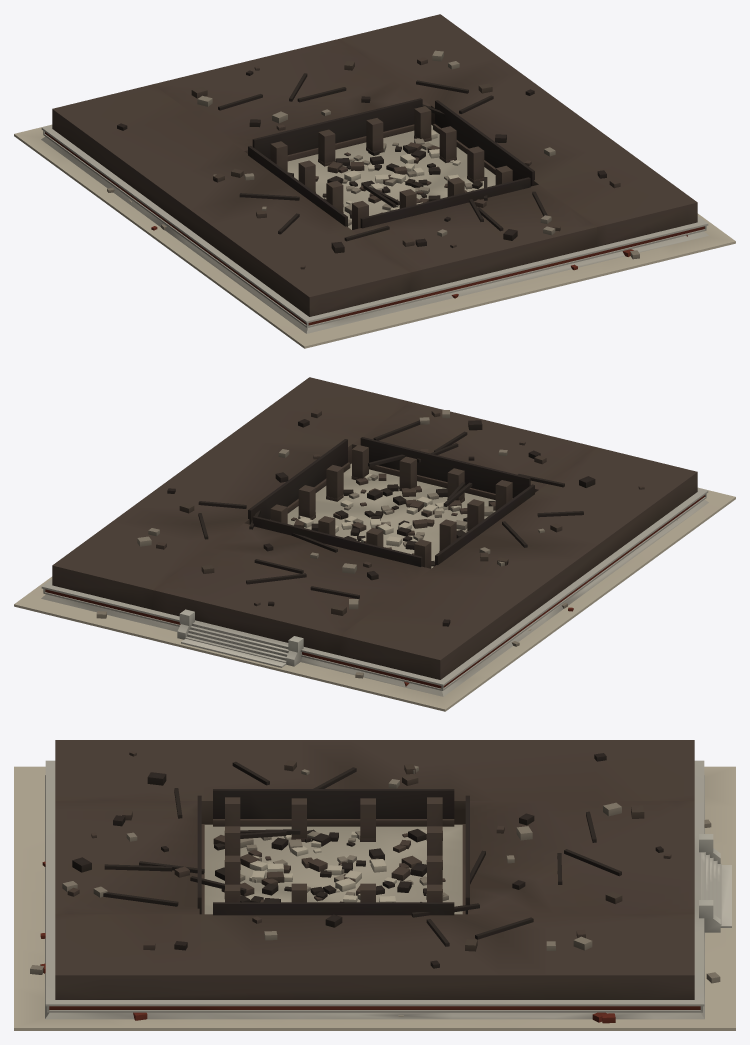
The model's file is palace-of-quetzalpapalotl-650.glb.
3 renders of one model, top to bottom at view 1: azimuth 30°, elevation 25°; view 2: azimuth 150°, elevation 25°; view 3: azimuth 270°, elevation 25°, orthographic. The views are drawn at different scales.
Parts seen in each view (by area): view 1: p1_rooms, p0_ground, p2_debris; view 2: p1_rooms, p0_ground, p2_debris; view 3: p1_rooms, p0_ground, p2_debris.
Part boxes in pixels (x1,y1,x2,y2): p1_rooms: [52, 14, 697, 316]; p0_ground: [14, 124, 735, 348]; p2_debris: [107, 73, 687, 308]; p1_rooms: [52, 377, 697, 679]; p0_ground: [14, 463, 735, 711]; p2_debris: [96, 420, 677, 686]; p1_rooms: [55, 740, 731, 999]; p0_ground: [14, 760, 735, 1030]; p2_debris: [30, 761, 720, 1023].
Size of the model in its own units: 60 by 5.98 by 70.
